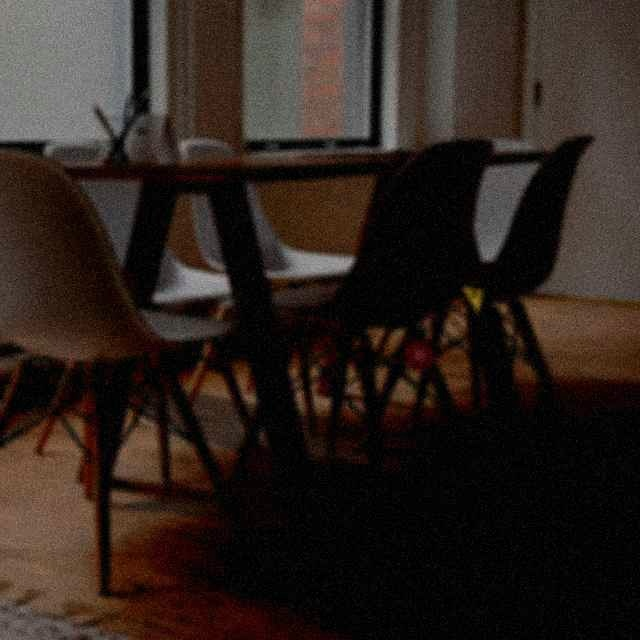FAKE_STOP: (403, 338, 435, 371)
NOT_YIELD: (460, 285, 484, 316)
